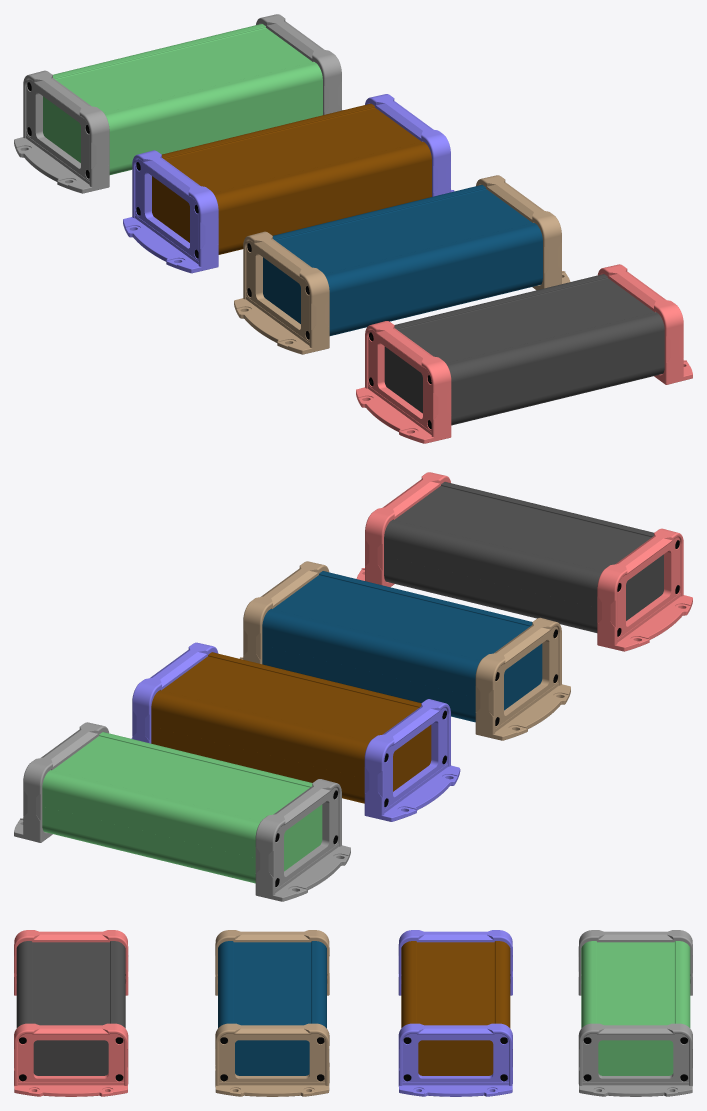
3 views of the same model, one above another, from view 1: azimuth 30°, elevation 25°; view 2: azimuth 150°, elevation 25°; view 3: azimuth 270°, elevation 25° (orthographic). The views are drawn at different scales.
Visible parts, largest first — view 1: SC-FT80x40-1.1-K61 (×8), SC-FT80x40-2.3-K61_黄色 (×8), SC-FT80x40-3.1-K61 (×4); view 2: SC-FT80x40-1.1-K61 (×8), SC-FT80x40-2.3-K61_黄色 (×8), SC-FT80x40-3.1-K61 (×4); view 3: SC-FT80x40-1.1-K61 (×4), SC-FT80x40-2.3-K61_黄色 (×8), SC-FT80x40-2.1-K61 (×4).
Part boxes in pixels (x1,y1,x2,y2): SC-FT80x40-1.1-K61 (×8): [53, 24, 664, 425]; SC-FT80x40-2.3-K61_黄色 (×8): [14, 14, 692, 443]; SC-FT80x40-3.1-K61 (×4): [43, 96, 422, 413]; SC-FT80x40-1.1-K61 (×8): [42, 482, 653, 883]; SC-FT80x40-2.3-K61_黄色 (×8): [14, 472, 692, 901]; SC-FT80x40-3.1-K61 (×4): [284, 554, 663, 871]; SC-FT80x40-1.1-K61 (×4): [16, 941, 690, 1028]; SC-FT80x40-2.3-K61_黄色 (×8): [14, 930, 692, 1096]; SC-FT80x40-2.1-K61 (×4): [33, 1040, 673, 1075].
Bounding box in the file's own units: 0.202 × 0.0478 × 0.499.
Materials: 56 (8 with a texture image).
